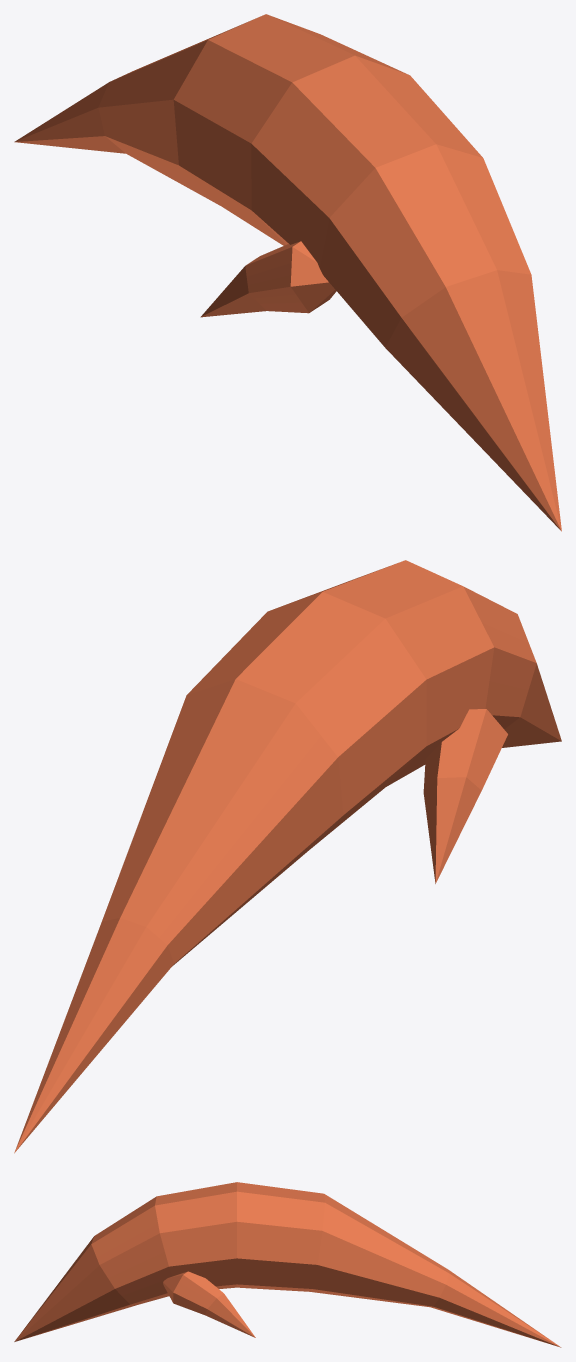
The picture shows the model from 3 angles, top to bottom: view 1: azimuth 30°, elevation 25°; view 2: azimuth 150°, elevation 25°; view 3: azimuth 270°, elevation 25°; orthographic projection. The views are drawn at different scales.
Visible parts, largest first — view 1: 身体, 放样; view 2: 身体, 放样; view 3: 身体, 放样_1.
Part boxes in pixels (x1,y1,x2,y2): 身体: (14, 14, 561, 531); 放样: (200, 241, 336, 317); 身体: (14, 560, 561, 1153); 放样: (423, 709, 507, 883); 身体: (14, 1182, 561, 1347); 放样_1: (163, 1271, 255, 1337).
Bounding box in the file's own units: 86.23 × 112 × 347.
